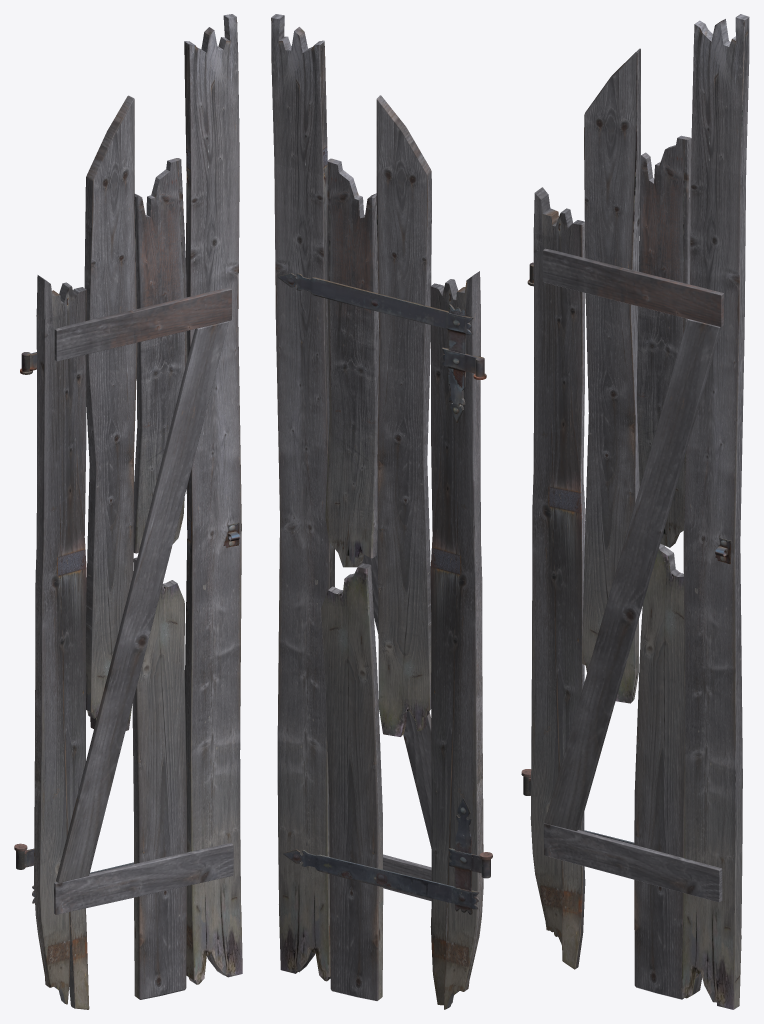
Rendered from SM_Door_02_05.fbx.
3 renders of one model, left to right at view 1: azimuth 30°, elevation 25°; view 2: azimuth 150°, elevation 25°; view 3: azimuth 330°, elevation 25°, orthographic. The views are drawn at different scales.
Parts seen in each view (by area): view 1: sm_Door_02_05_LOD0; view 2: sm_Door_02_05_LOD0; view 3: sm_Door_02_05_LOD0.
Part boxes in pixels (x1,y1,x2,y2): sm_Door_02_05_LOD0: (14,14,242,1009); sm_Door_02_05_LOD0: (271,14,492,1009); sm_Door_02_05_LOD0: (521,14,749,1009).
Bounding box in the file's own units: 10.72 × 71.16 × 298.
